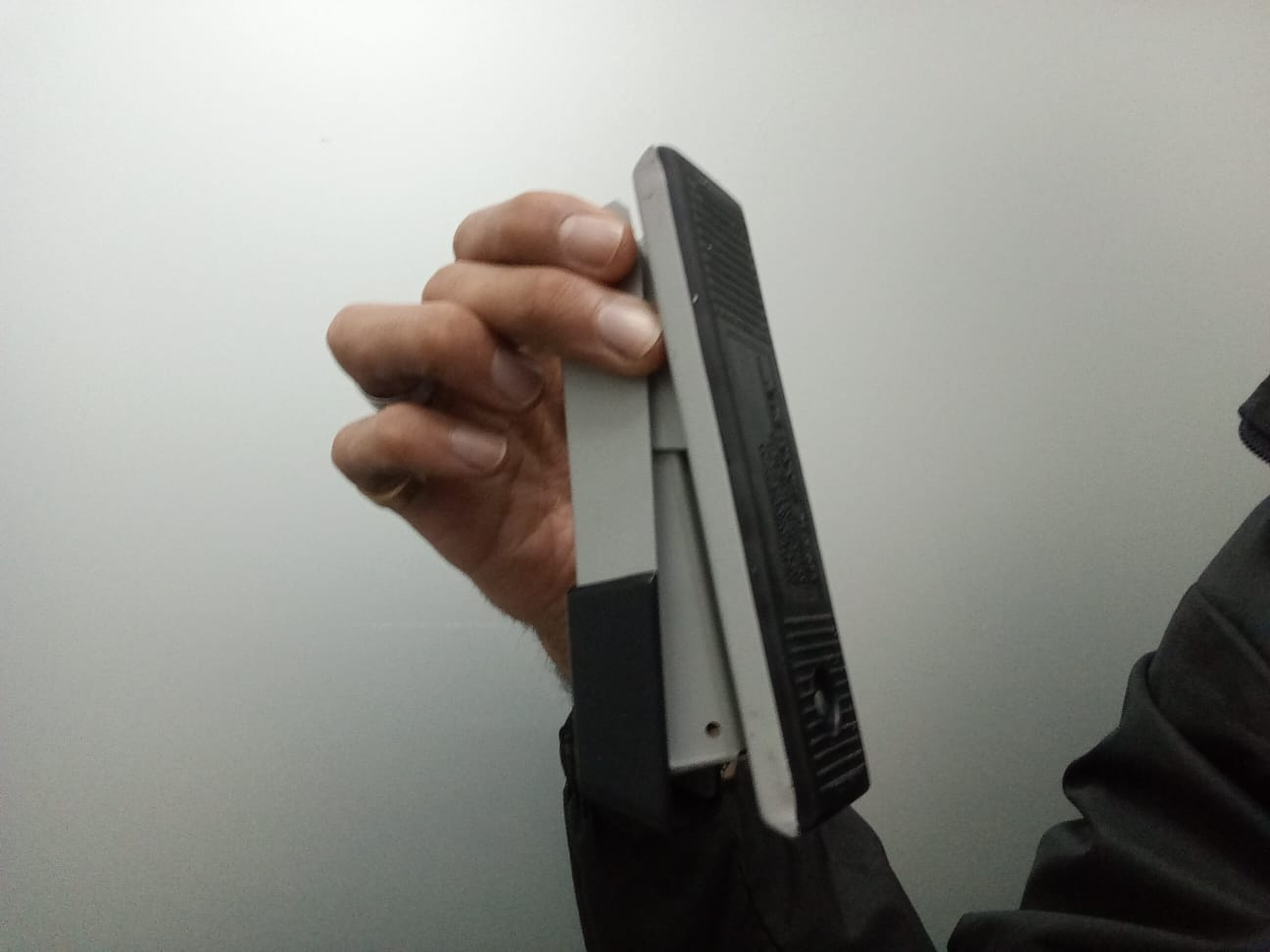Ordinario: (555, 145, 873, 839)
